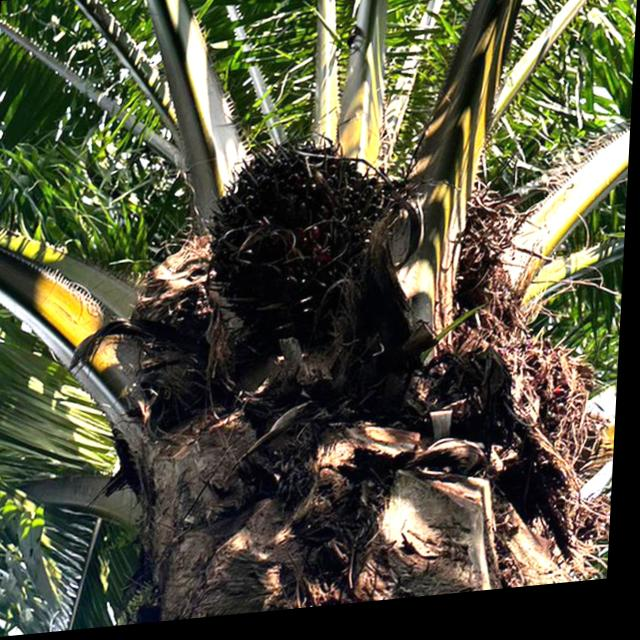ripe: (209, 131, 404, 339)
